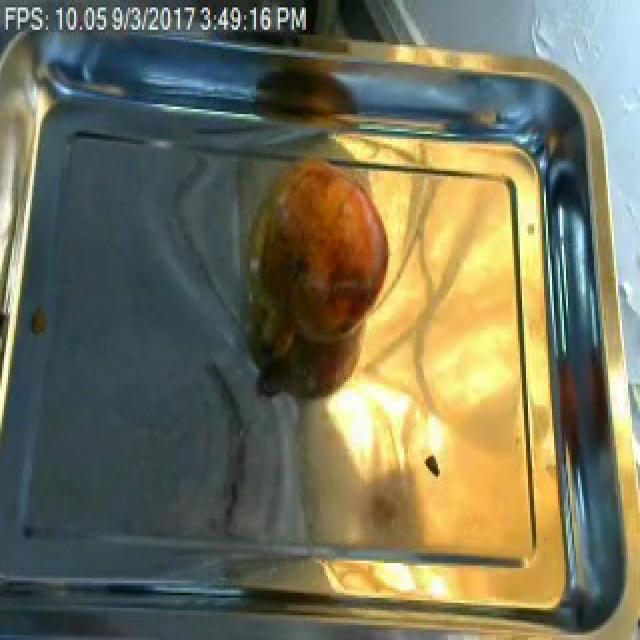fruit: (244, 153, 402, 364)
